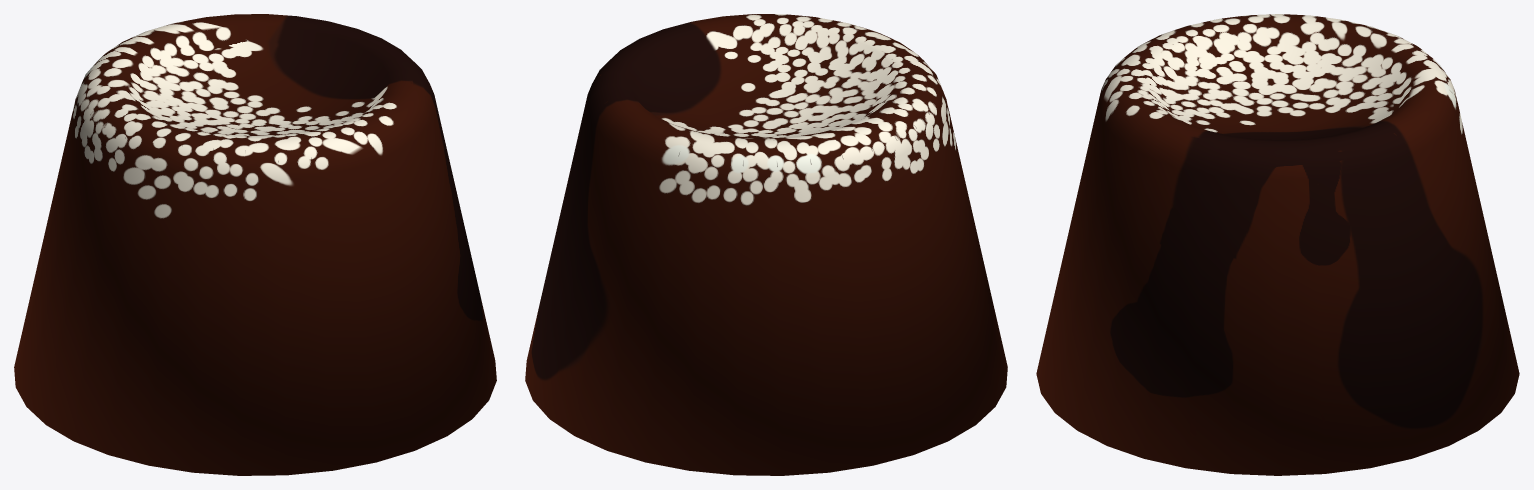
File: LavaCake(tex).fbx
The picture shows the model from 3 angles, left to right: view 1: azimuth 30°, elevation 25°; view 2: azimuth 150°, elevation 25°; view 3: azimuth 270°, elevation 25°; orthographic projection.
Parts seen in each view (by area): view 1: Cylinder; view 2: Cylinder; view 3: Cylinder.
Part boxes in pixels (box(x1,y1,x2,y2)): Cylinder: box(14, 14, 496, 475); Cylinder: box(525, 14, 1007, 475); Cylinder: box(1036, 14, 1519, 475).
Bounding box in the file's own units: 237 × 160 × 237.
Materials: 1 (1 with a texture image).
